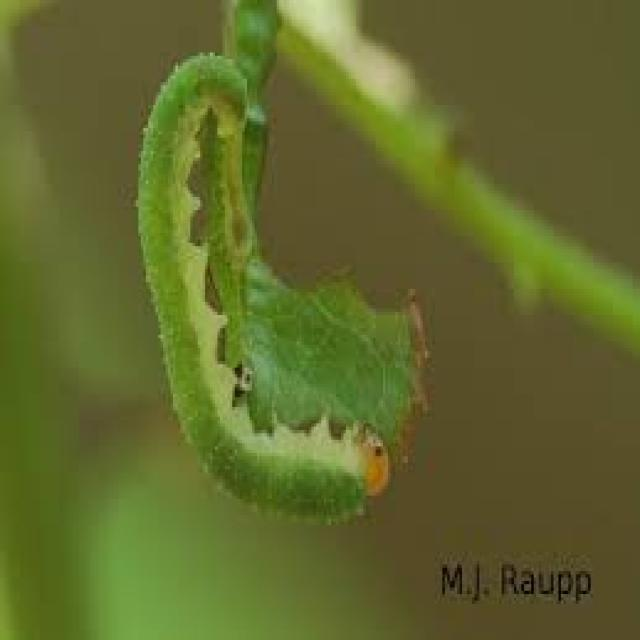Saw Fly: (128, 50, 432, 527)
